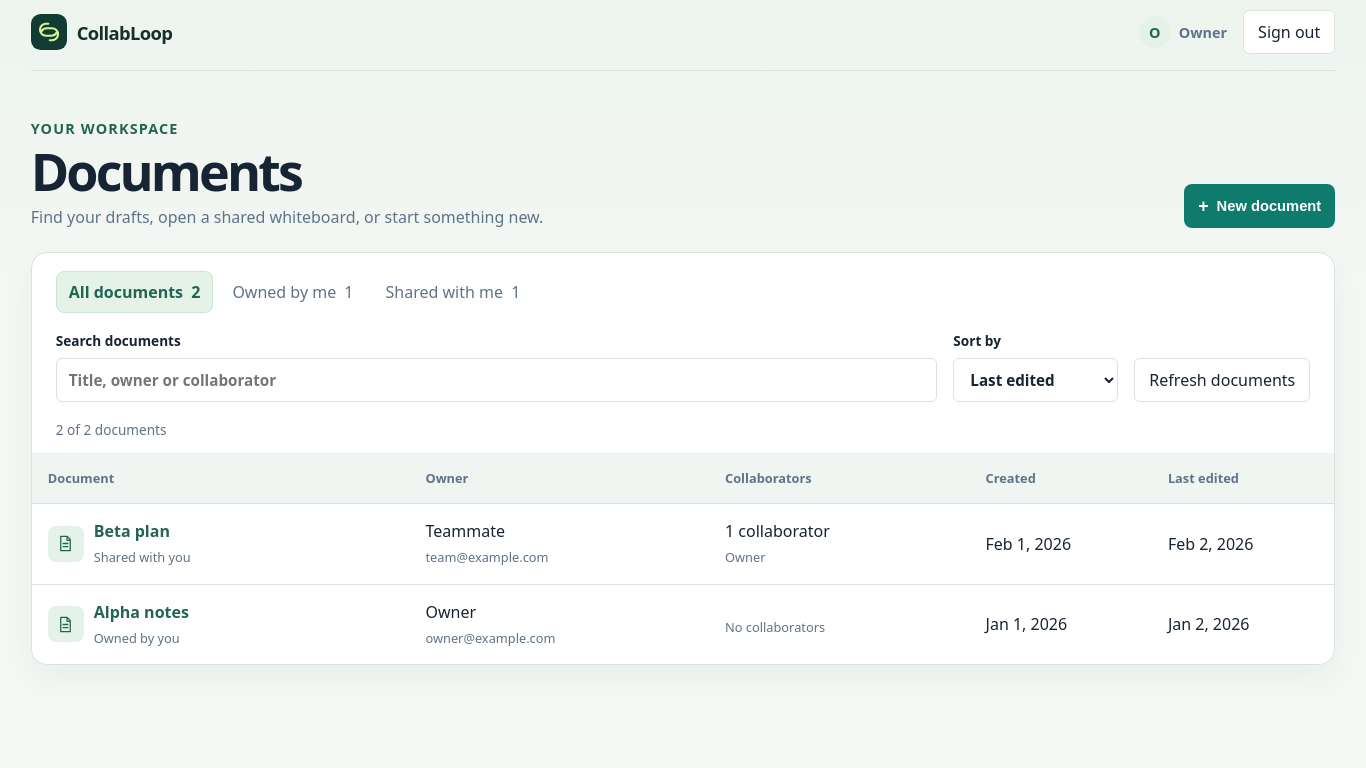
Test case: owner/editor can rename Alpha notes and see the saved name in the dashboard
Step 1. Click the button "Alpha notes" → (141, 612), box [94,601,189,623]
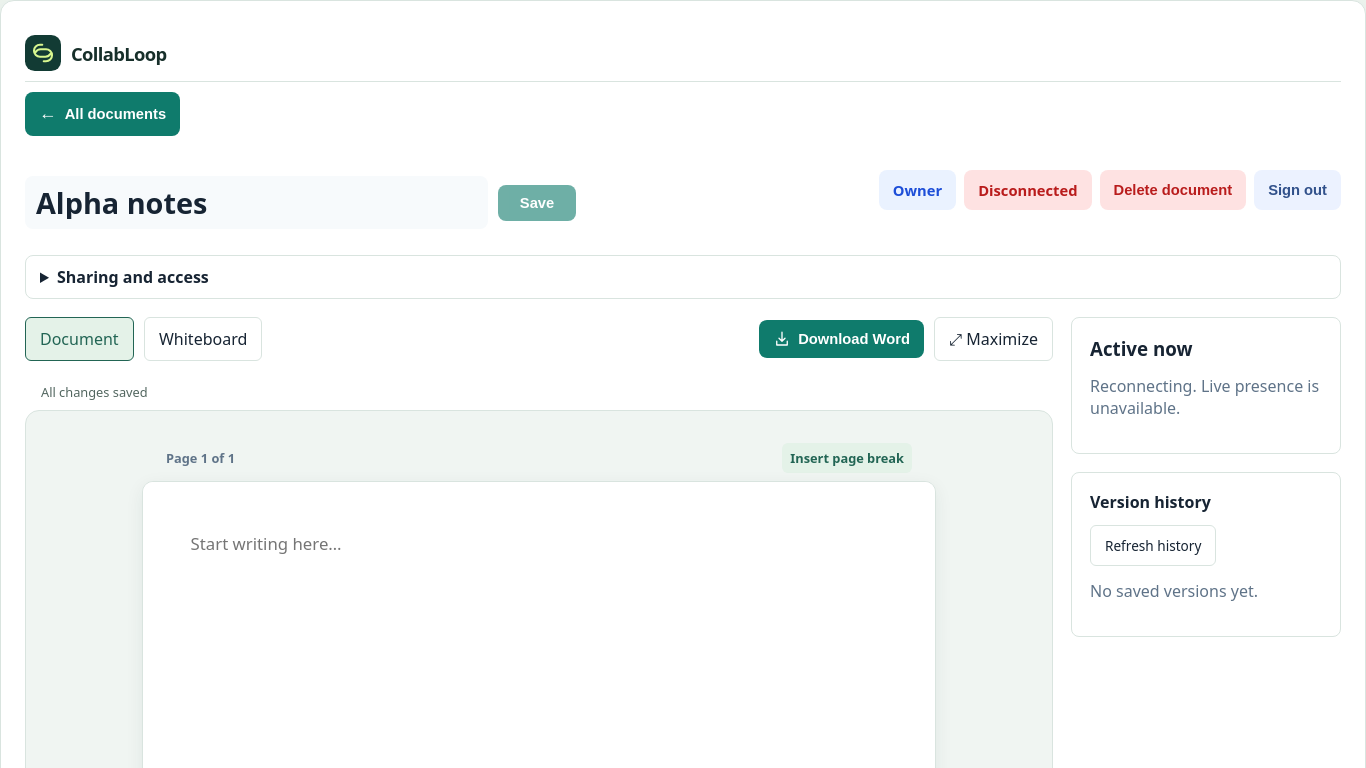
Step 2. Replace the text in the field named "Document title" with "  Renamed notes  " → (256, 203), box [25,176,488,229]
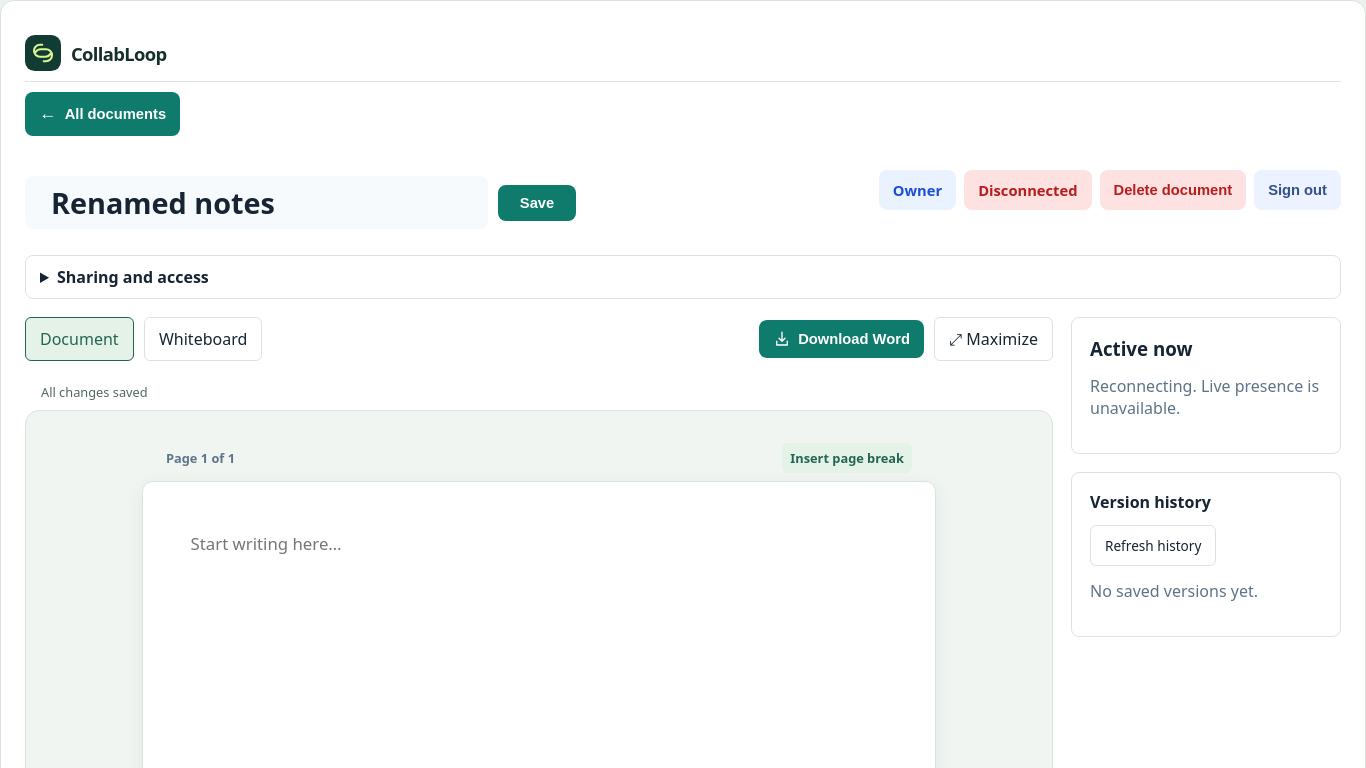
Step 3. Click the button "Save" → (537, 202), box [498,184,576,220]
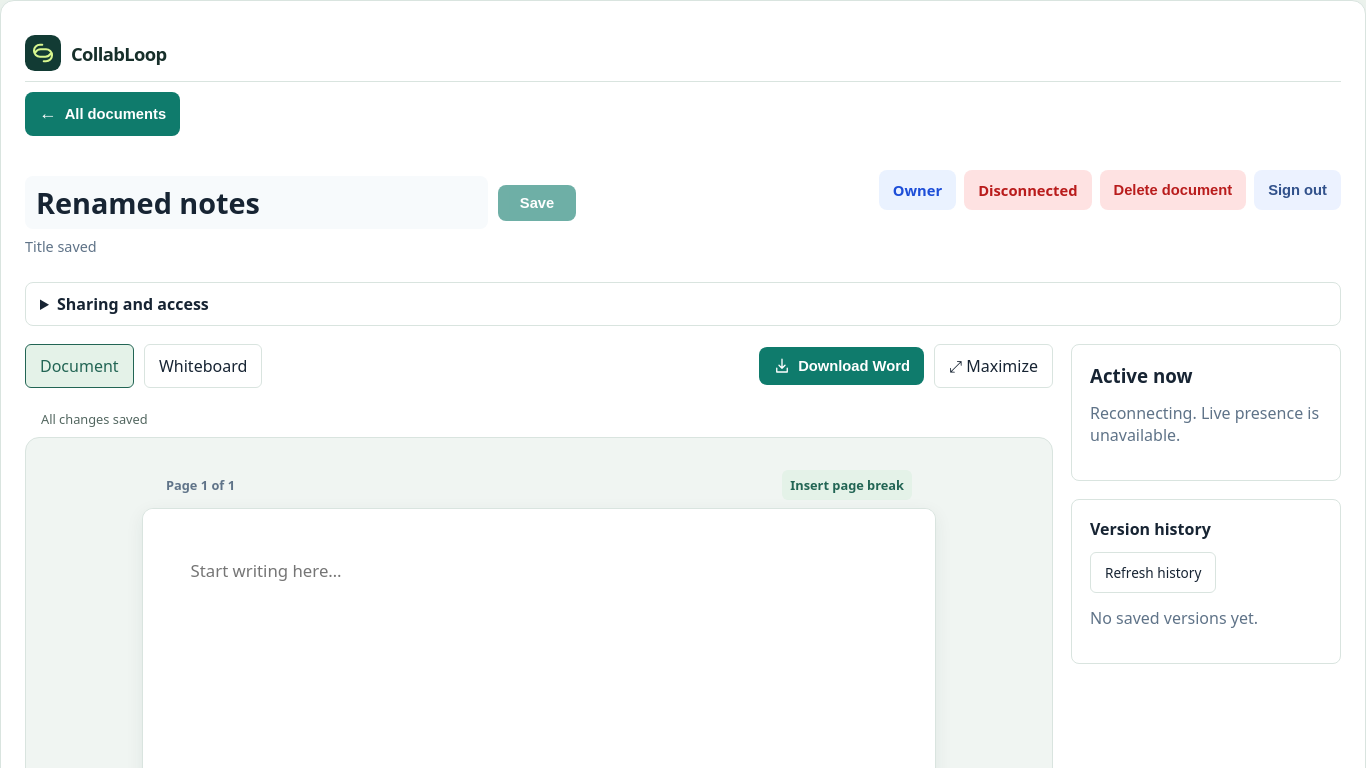
Expected: the text "Title saved" is shown, [25,237,97,256]
Step 4. Click the button "← All documents" → (103, 114), box [25,92,180,136]
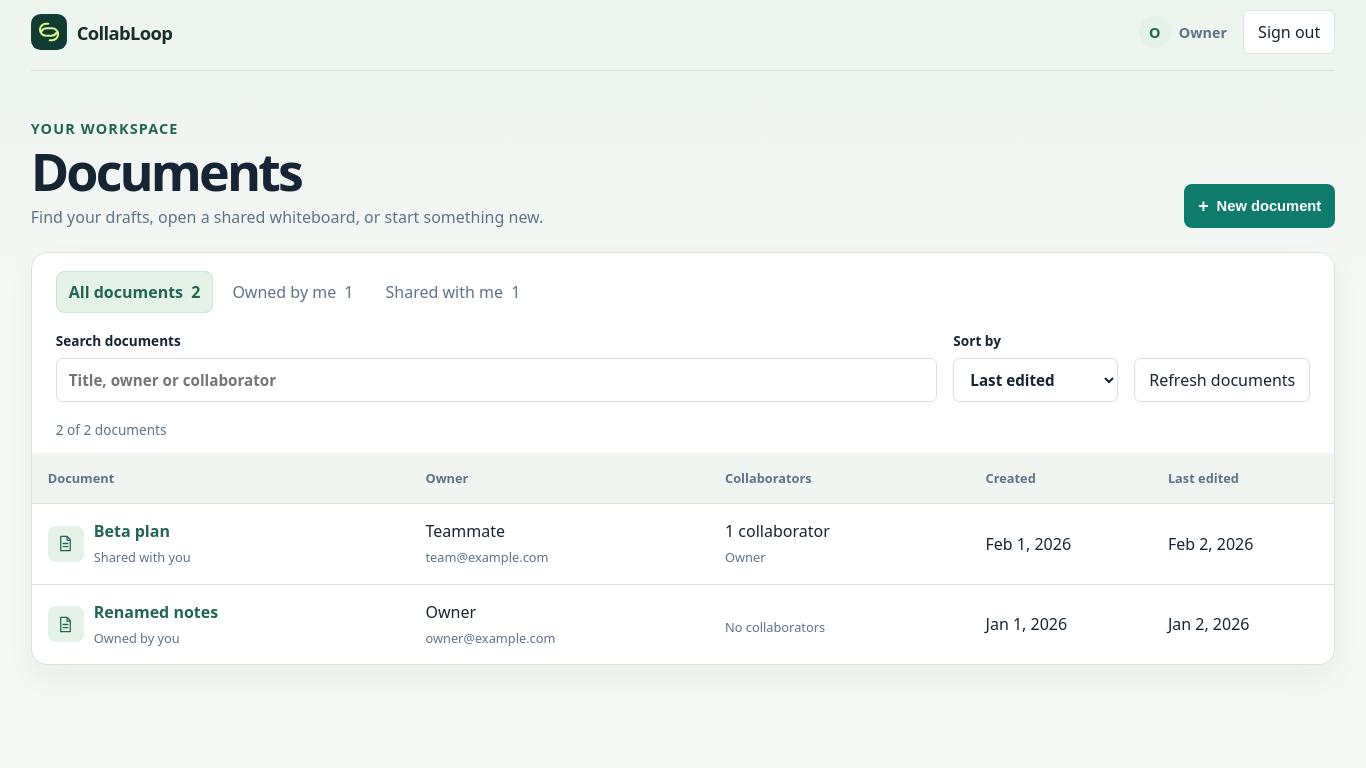
Expected: the button "Renamed notes" is shown, [94,601,218,623]
